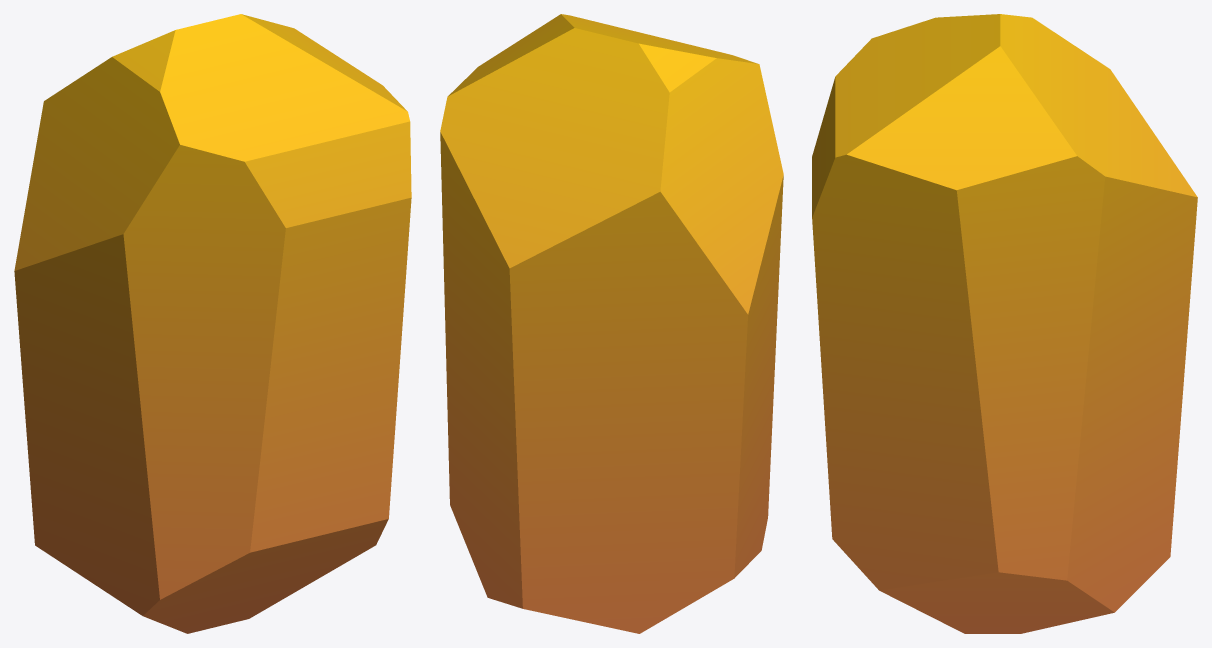
Rendered from Crystal_10.fbx.
The picture shows the model from 3 angles, left to right: view 1: azimuth 30°, elevation 25°; view 2: azimuth 150°, elevation 25°; view 3: azimuth 270°, elevation 25°; orthographic projection. The views are drawn at different scales.
Visible parts, largest first — view 1: Crystal_10; view 2: Crystal_10; view 3: Crystal_10.
Part boxes in pixels (box(x1,y1,x2,y2)): Crystal_10: box(14, 14, 411, 633); Crystal_10: box(440, 14, 783, 633); Crystal_10: box(812, 14, 1197, 633).
Bounding box in the file's own units: 0.7325 × 1.28 × 0.7561.
